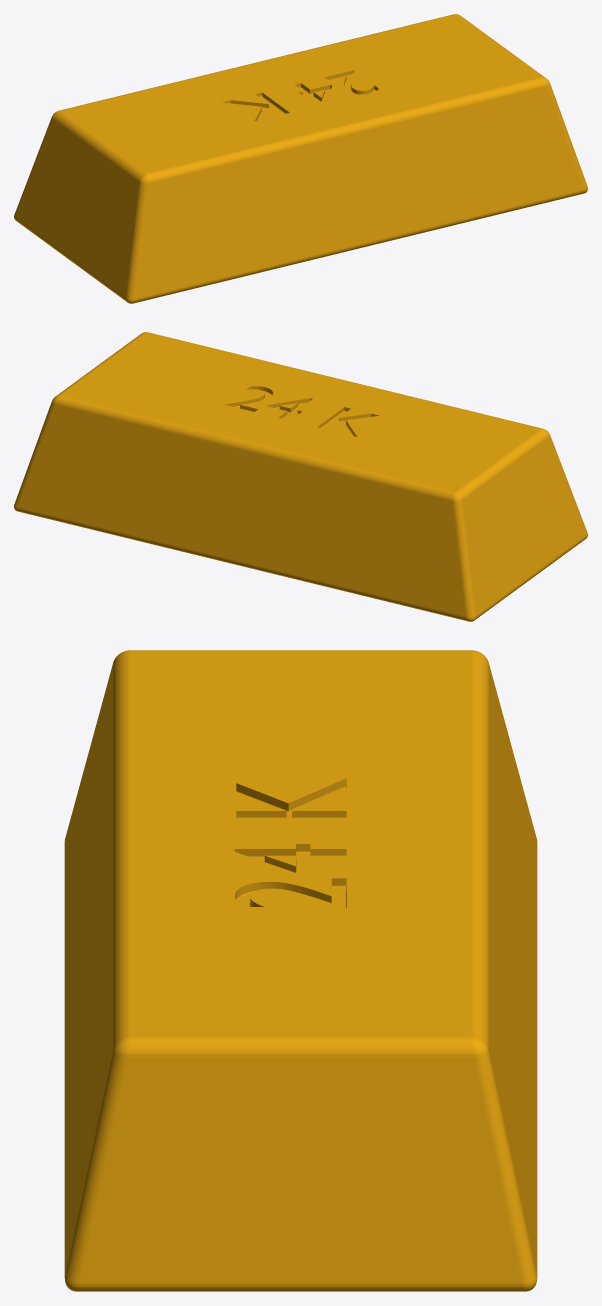
File: ouro.glb
3 renders of one model, top to bottom at view 1: azimuth 30°, elevation 25°; view 2: azimuth 150°, elevation 25°; view 3: azimuth 270°, elevation 25°, orthographic. The views are drawn at different scales.
Visible parts, largest first — view 1: Object_4; view 2: Object_4; view 3: Object_4.
Boxes of the visible parts, x1,y1,x2,y2 form: Object_4: (14,14,587,303); Object_4: (14,332,587,621); Object_4: (64,650,537,1291).
Bounding box in the file's own units: 1.12 × 0.2618 × 0.4967.
